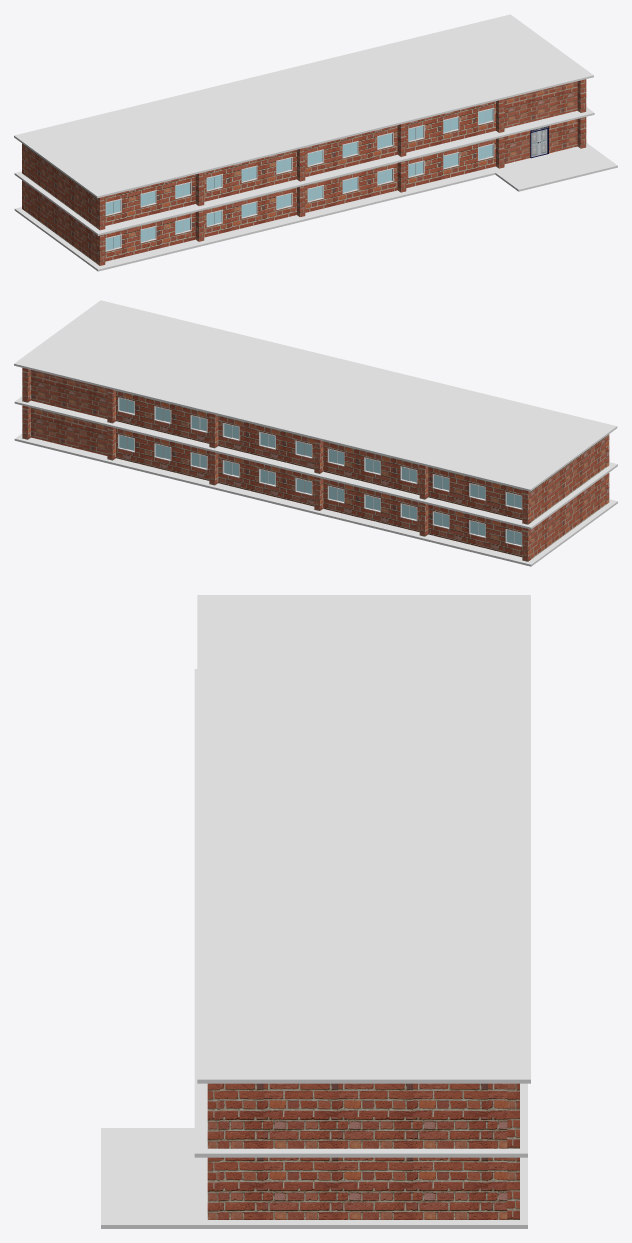
Rendered from School_3.glb.
3 renders of one model, top to bottom at view 1: azimuth 30°, elevation 25°; view 2: azimuth 150°, elevation 25°; view 3: azimuth 270°, elevation 25°, orthographic. The views are drawn at different scales.
Visible parts, largest first — view 1: Floor3, polySurface13653, Wall_8, Floor1, Windows_1, Wall_5, Piller_3, polySurface13654; view 2: Floor3, polySurface13653, Wall_6, Floor1, Windows_1, Wall_10, Wall_5, Piller_2; view 3: Floor3, polySurface13653, Wall_9, Floor1.
Boxes of the visible parts, x1,y1,x2,y2 form: Floor3: (14,14,593,198); polySurface13653: (14,79,594,235); Wall_8: (105,139,495,261); Floor1: (14,143,617,271); Windows_1: (105,143,494,251); Wall_5: (25,182,96,263); Piller_3: (97,117,586,265); polySurface13654: (504,119,577,163); Floor3: (14,300,617,491); polySurface13653: (14,368,617,529); Wall_6: (116,428,522,557); Floor1: (14,433,617,566); Windows_1: (118,434,522,546); Wall_10: (31,407,107,455); Wall_5: (531,475,605,558); Piller_2: (22,405,531,561); Floor3: (197,595,530,1083); polySurface13653: (194,669,527,1157); Wall_9: (220,1157,507,1219); Floor1: (101,1128,527,1228).
Size of the model in its own units: 45.97 by 6.59 by 17.23.
Materials: 24 (4 with a texture image).
